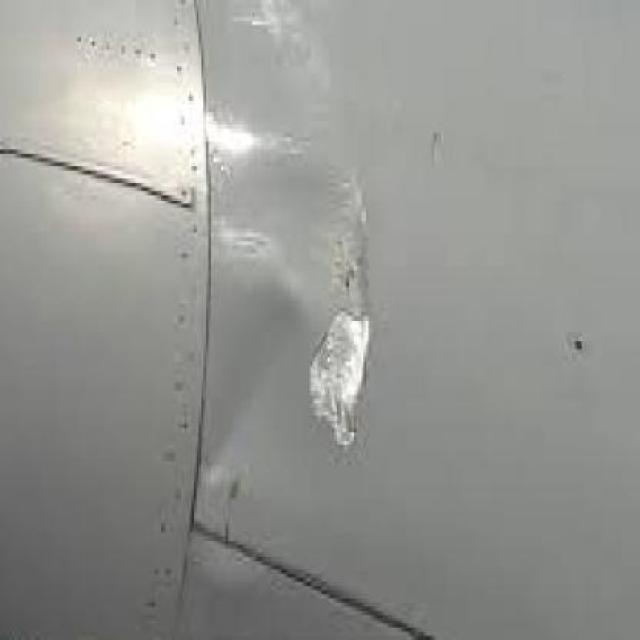dent: (300, 120, 373, 459)
